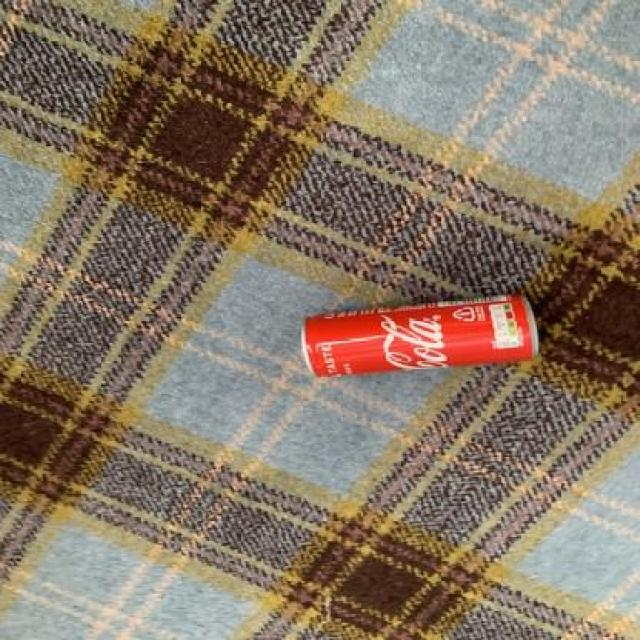trash: (293, 293, 545, 379)
